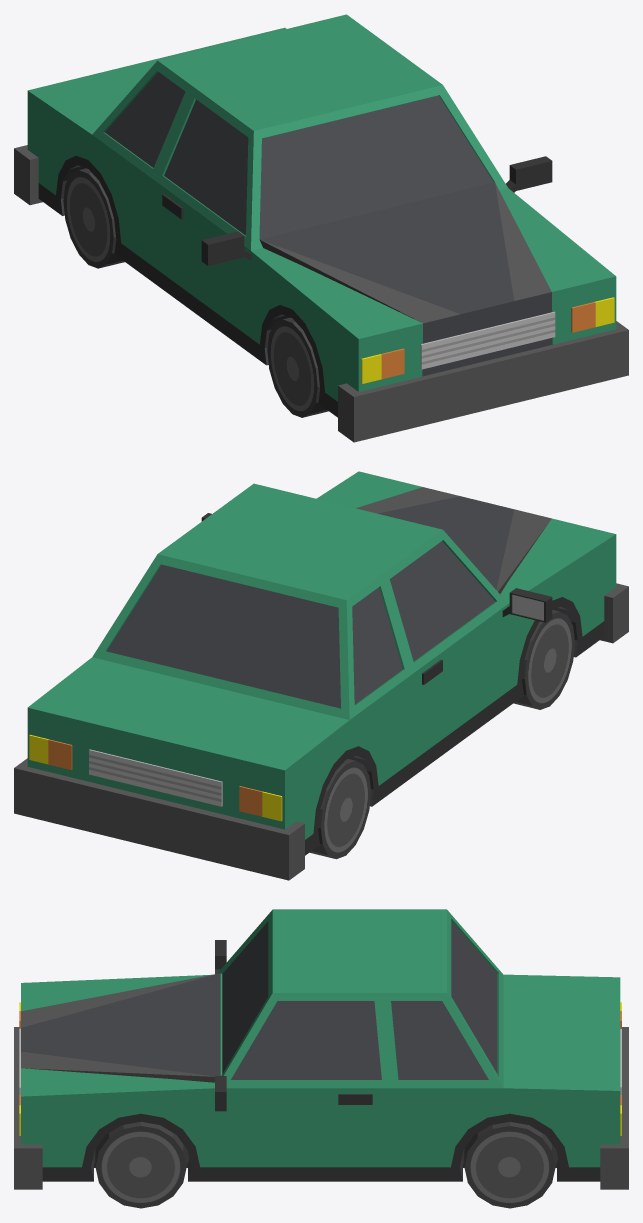
Rendered from car02_color01.fbx.
3 views of the same model, one above another, from view 1: azimuth 30°, elevation 25°; view 2: azimuth 150°, elevation 25°; view 3: azimuth 270°, elevation 25° (orthographic). The views are drawn at different scales.
Visible parts, largest first — view 1: Cube.197, Cube.399, Cube.396; view 2: Cube.197, Cube.399, Cube.396; view 3: Cube.197, Cube.398, Cube.397.
Part boxes in pixels (bbox=[...]): Cube.197: bbox=[14, 14, 628, 442]; Cube.399: bbox=[63, 168, 124, 268]; Cube.396: bbox=[267, 317, 328, 417]; Cube.197: bbox=[14, 471, 628, 880]; Cube.399: bbox=[310, 759, 371, 859]; Cube.396: bbox=[513, 610, 574, 709]; Cube.197: bbox=[14, 909, 628, 1189]; Cube.398: bbox=[95, 1121, 186, 1208]; Cube.397: bbox=[464, 1122, 555, 1208].
Bounding box in the file's own units: 267 × 165 × 457.
